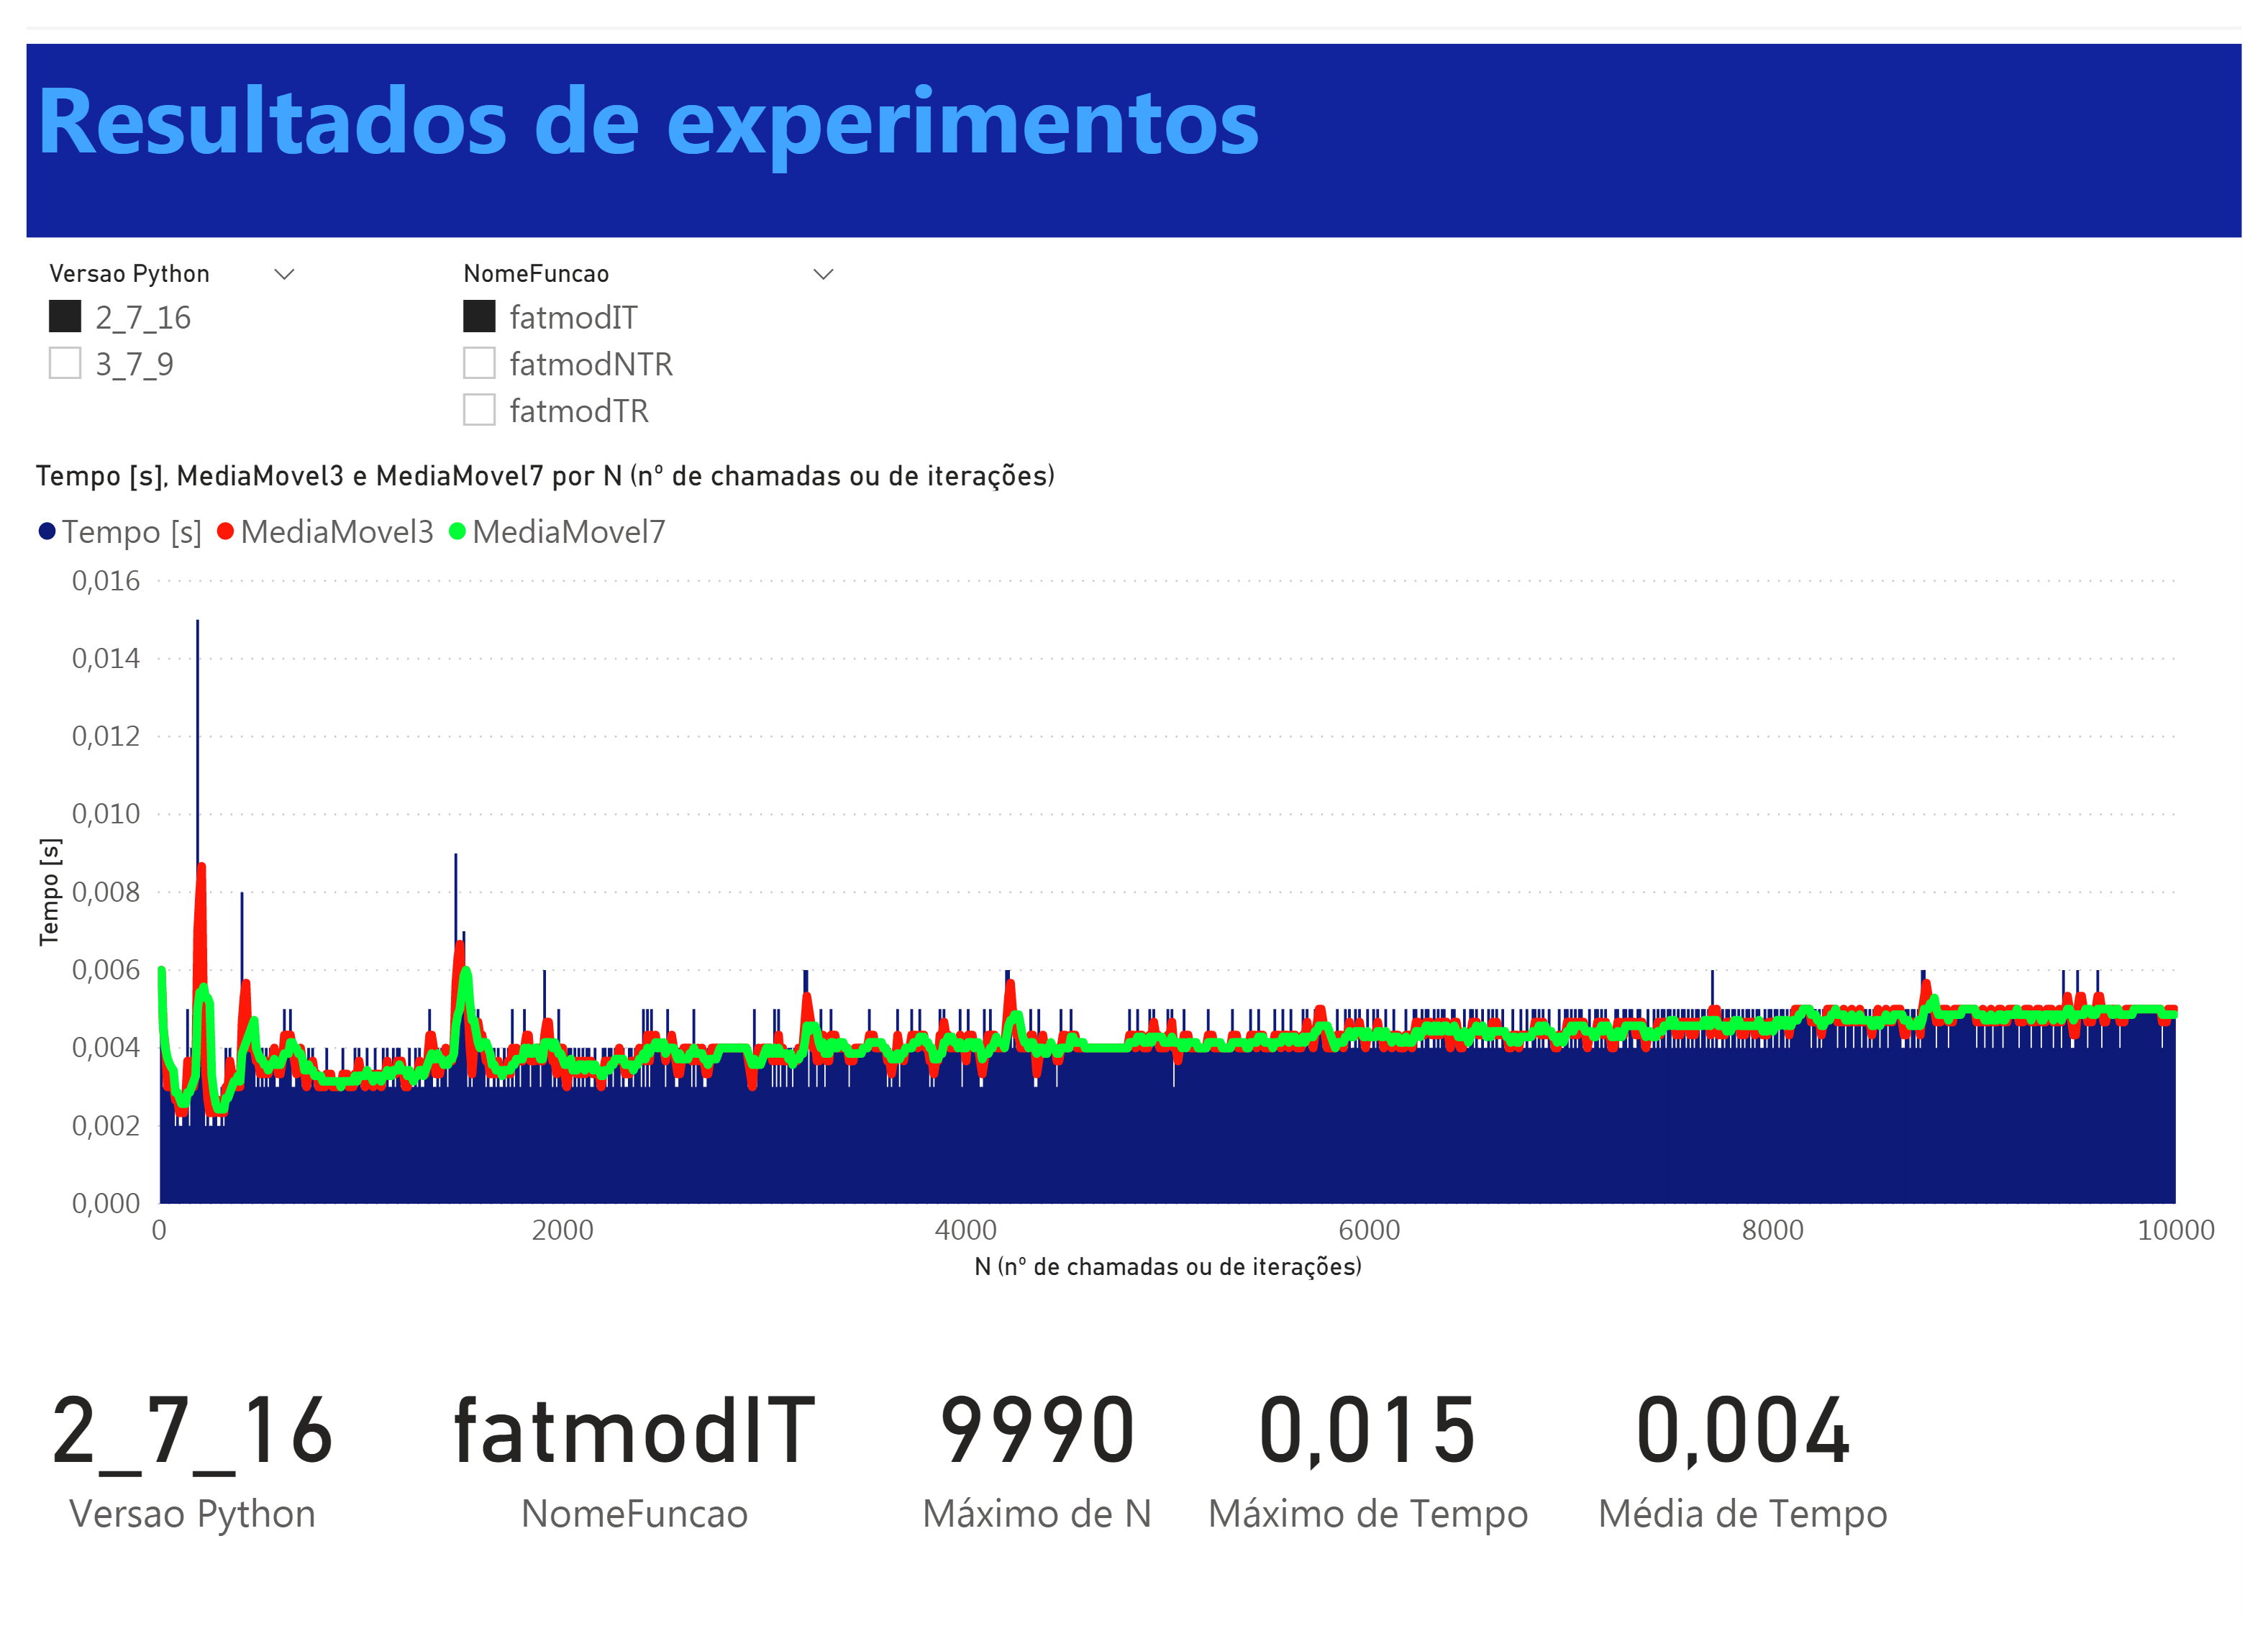

This screenshot's page, from the dashboard's own definition file:
{"tool":"powerbi","page":{"name":"FatMod","canvas":[1280,900],"ordinal":0},"visuals":[{"type":"card","fields":{"Values":["Max(Tabela1.Tempo)"]},"box":[672,720,208,176],"z":0},{"type":"card","fields":{"Values":["Min(Tabela1.NomeFuncao)"]},"box":[208,720,288,176],"z":1000},{"type":"card","fields":{"Values":["Max(Tabela1.N)"]},"box":[496,720,176,176],"z":2000},{"type":"card","fields":{"Values":["Avg(Tabela1.Tempo)"]},"box":[896,720,192,176],"z":3000},{"type":"slicer","fields":{"Values":["Tabela1.Versao Python"]},"box":[0,120,168,96],"z":4000},{"type":"card","fields":{"Values":["Min(Tabela1.Versao Python)"]},"box":[0,720,192,176],"z":5000},{"type":"textbox","box":[0,0,1280,112],"z":6000},{"type":"lineClusteredColumnComboChart","fields":{"Y":["Sum(Tabela1.Tempo)"],"Category":["Tabela1.N"],"Y2":["Tabela1.MediaMovel3","Tabela1.MediaMovel7"]},"box":[0,240,1272,480],"z":7000},{"type":"slicer","fields":{"Values":["Tabela1.NomeFuncao"]},"box":[240,120,240,120],"z":8000}]}

Visuals, with their boxes in screenshot pixels (x1, y1, x2, y2), scaled from the page's 1280x900 canvas onto the 2268x1641 screenshot:
card - Max(Tabela1.Tempo): box(1190, 1313, 1559, 1634)
card - Min(Tabela1.NomeFuncao): box(368, 1313, 879, 1634)
card - Max(Tabela1.N): box(879, 1313, 1190, 1634)
card - Avg(Tabela1.Tempo): box(1588, 1313, 1928, 1634)
slicer - Tabela1.Versao Python: box(0, 219, 298, 394)
card - Min(Tabela1.Versao Python): box(0, 1313, 340, 1634)
textbox: box(0, 0, 2267, 204)
lineClusteredColumnComboChart - Sum(Tabela1.Tempo) x Tabela1.N: box(0, 438, 2254, 1313)
slicer - Tabela1.NomeFuncao: box(425, 219, 850, 438)
